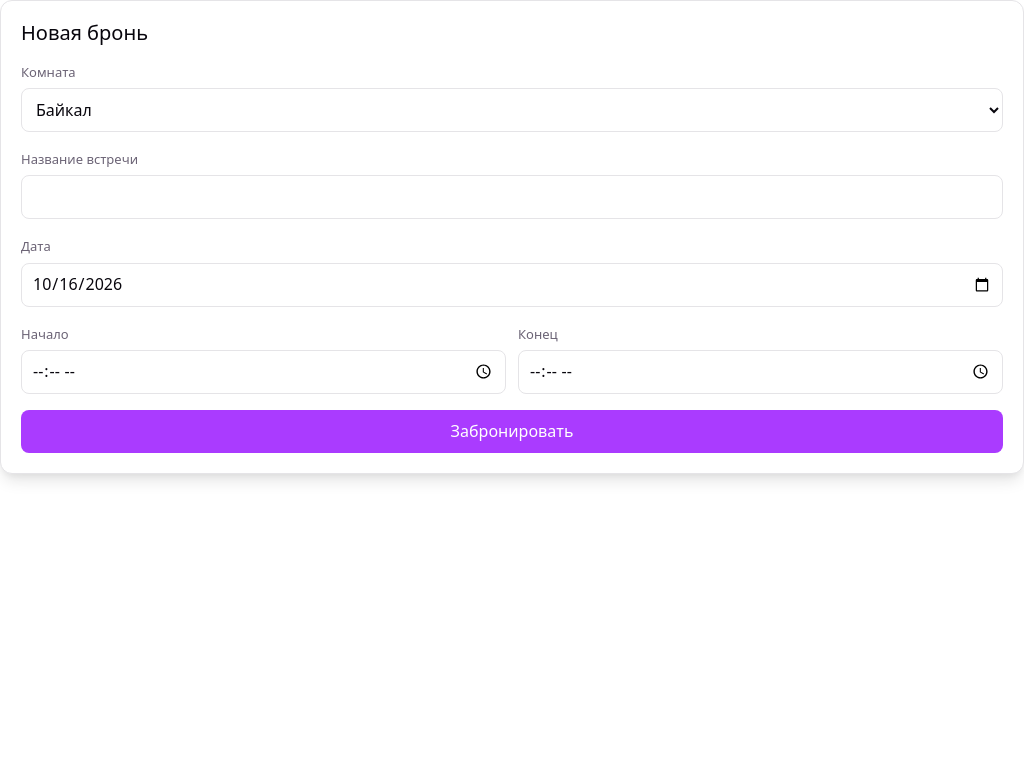
BookingForm › не отправляет бронь без названия
Type "11:00" into the time field labelled "Начало" at (264, 372), box [21,350,506,394]
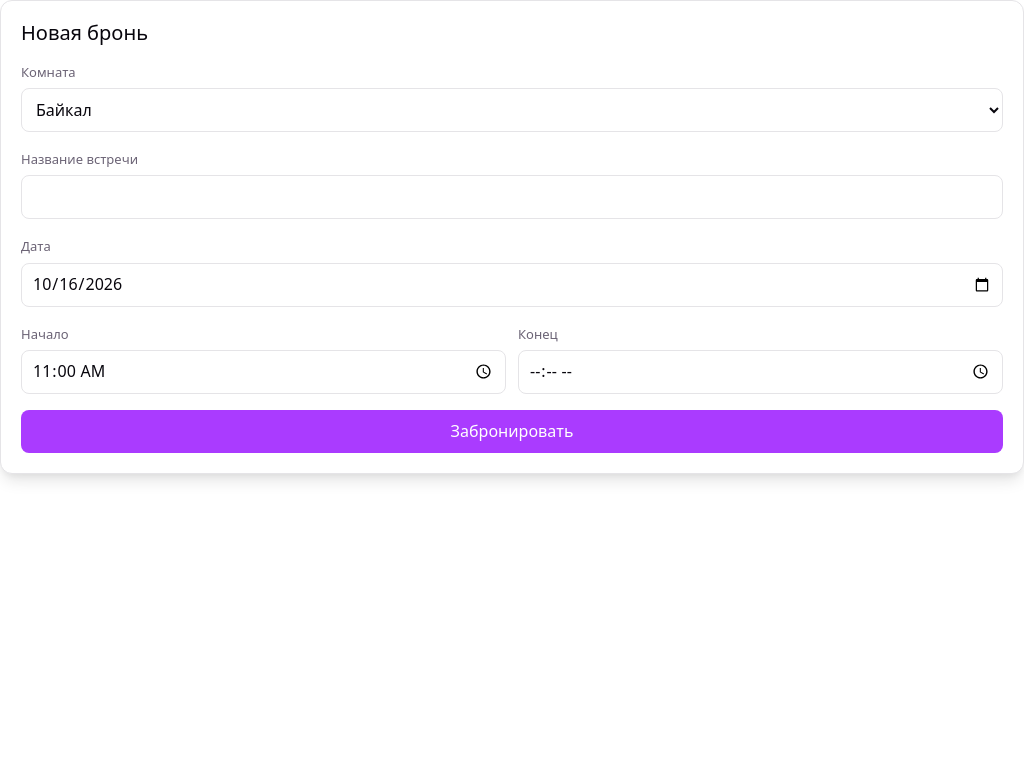
Type "12:00" into the time field labelled "Конец" at (760, 372), box [518,350,1003,394]
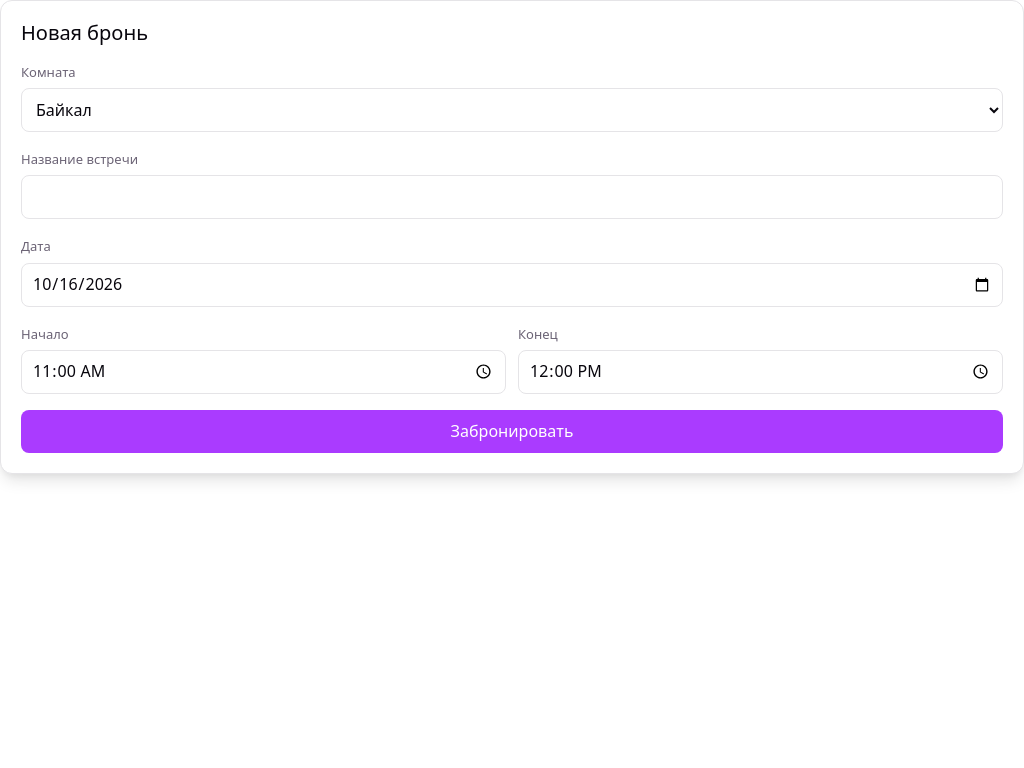
Click the button "Забронировать" at (512, 431), box [21,410,1003,453]
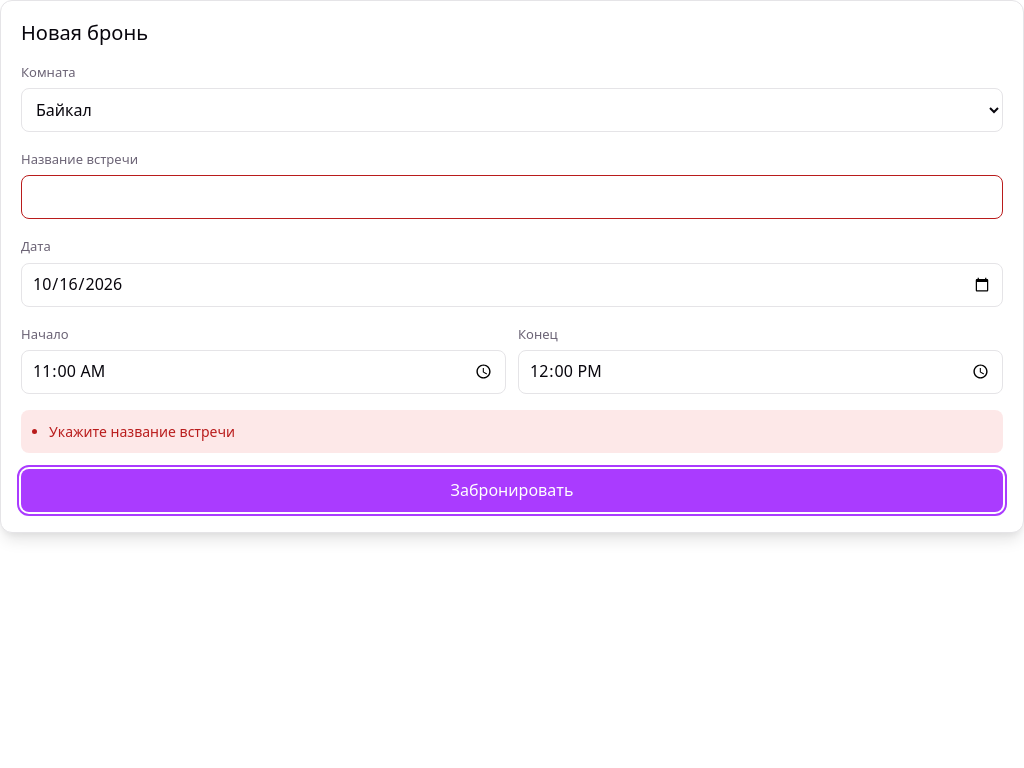
Result: the message reads "Укажите название встречи" at [49,422,235,441]
